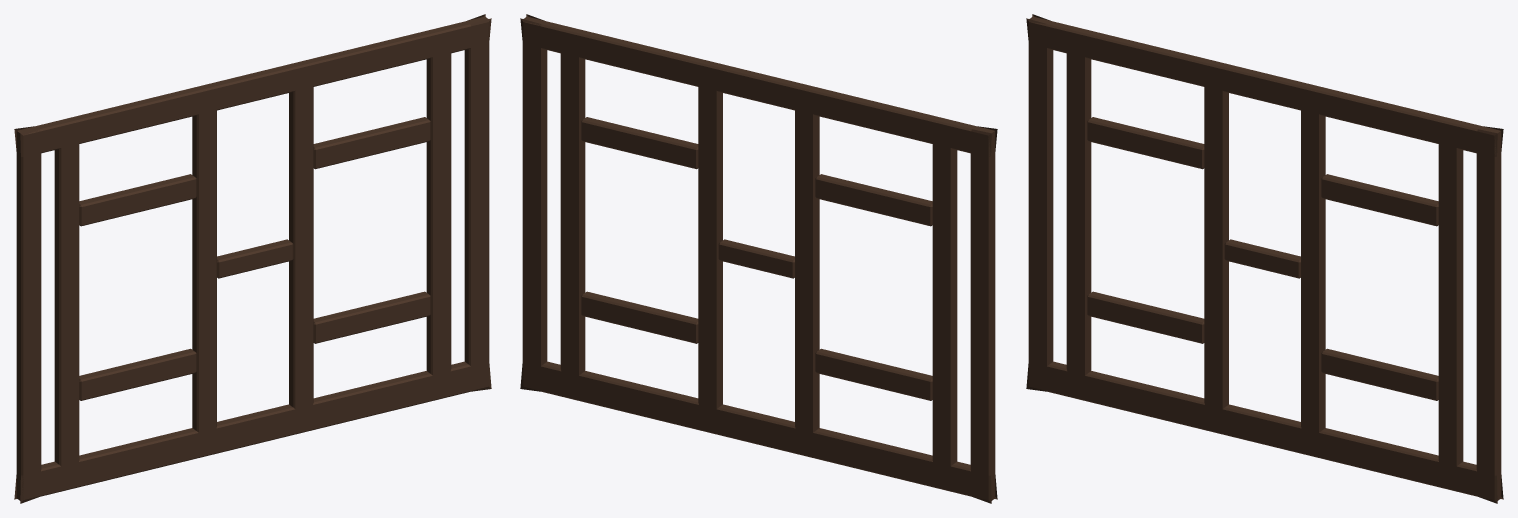
Rendered from timber_window_w16.fbx.
The picture shows the model from 3 angles, left to right: view 1: azimuth 30°, elevation 25°; view 2: azimuth 150°, elevation 25°; view 3: azimuth 330°, elevation 25°; orthographic projection.
Parts seen in each view (by area): view 1: timber_window_w16; view 2: timber_window_w16; view 3: timber_window_w16.
Boxes of the visible parts, <box> form: timber_window_w16: <box>14,14,491,503</box>; timber_window_w16: <box>520,14,997,503</box>; timber_window_w16: <box>1026,14,1503,503</box>.
Size of the model in its own units: 1610 by 1210 by 35.
